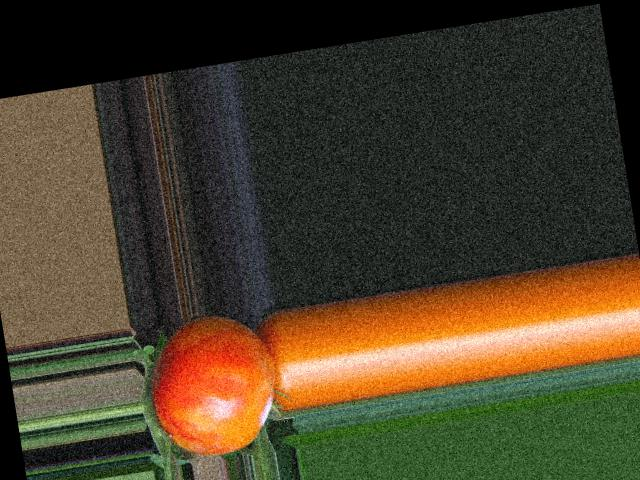tomato: (142, 307, 285, 463)
